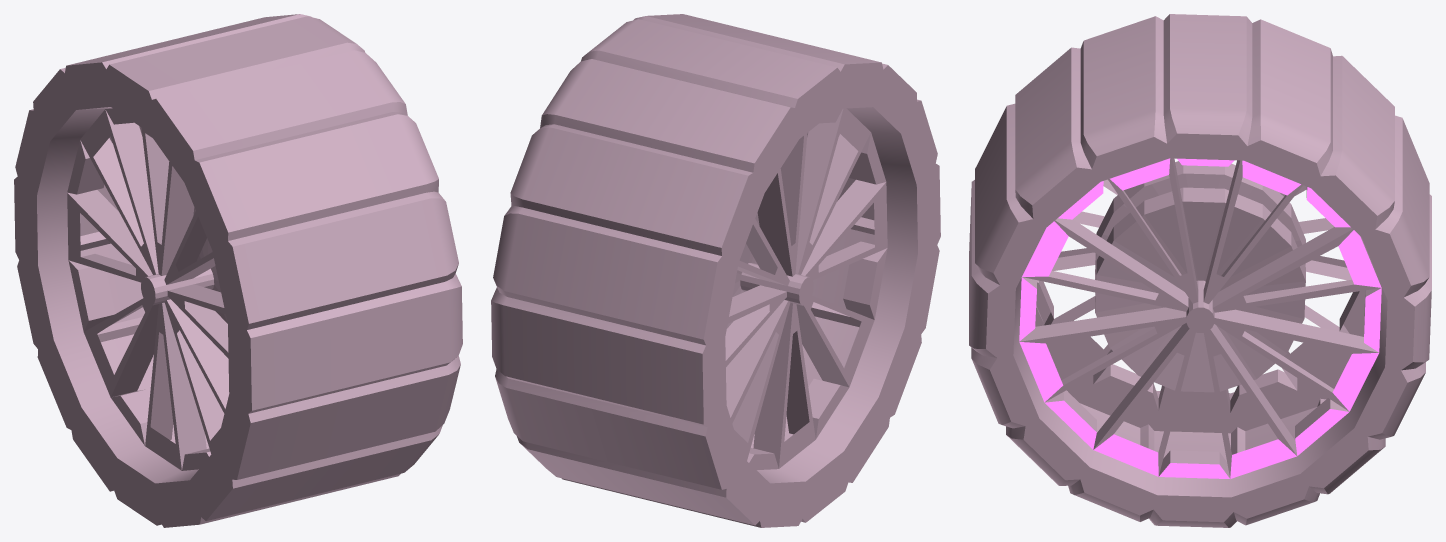
Rendered from autoreadyone.fbx.
The picture shows the model from 3 angles, left to right: view 1: azimuth 30°, elevation 25°; view 2: azimuth 150°, elevation 25°; view 3: azimuth 270°, elevation 25°; orthographic projection. The views are drawn at different scales.
Visible parts, largest first — view 1: Plane.049; view 2: Plane.049; view 3: Plane.049.
Part boxes in pixels (<box>): Plane.049: <box>14,14,462,527</box>; Plane.049: <box>491,14,940,527</box>; Plane.049: <box>969,14,1431,527</box>.
Size of the model in its own units: 56.8 by 107 by 107.
